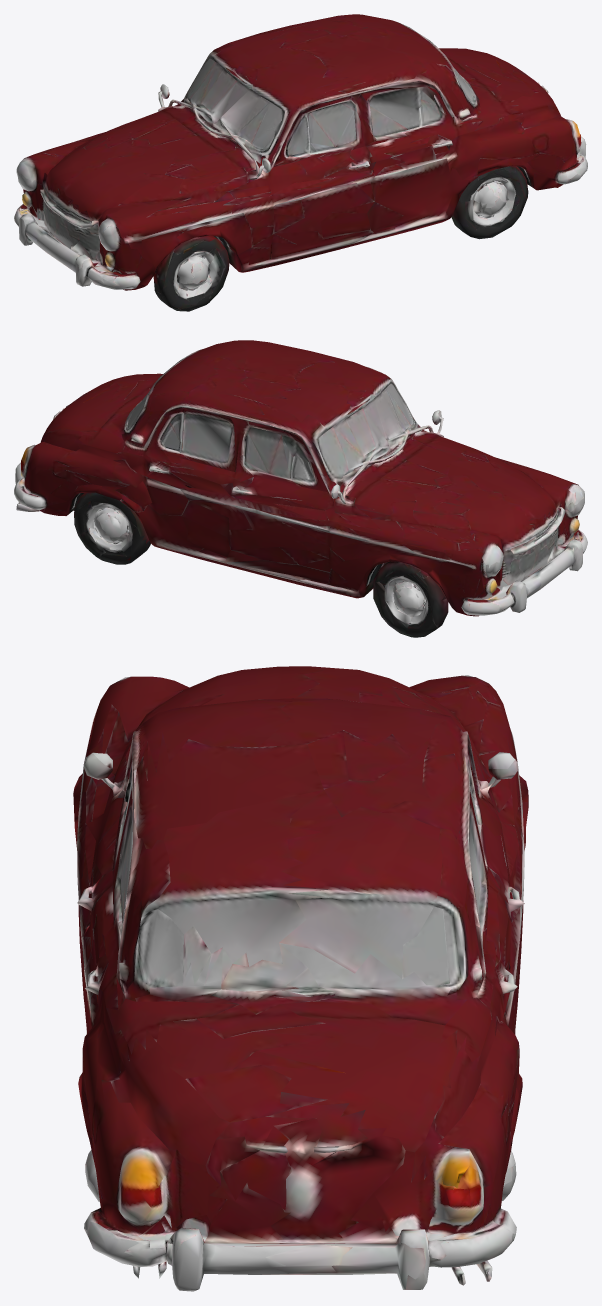
The model's file is getkong-auto1.glb.
3 renders of one model, top to bottom at view 1: azimuth 30°, elevation 25°; view 2: azimuth 150°, elevation 25°; view 3: azimuth 270°, elevation 25°, orthographic. The views are drawn at different scales.
Parts seen in each view (by area): view 1: output_unwrapped; view 2: output_unwrapped; view 3: output_unwrapped.
Part boxes in pixels (x1,y1,x2,y2): output_unwrapped: (14,14,587,311); output_unwrapped: (14,340,587,637); output_unwrapped: (73,666,528,1291).
Size of the model in its own units: 1.9 by 0.6635 by 0.738.
Materials: 1 (1 with a texture image).
